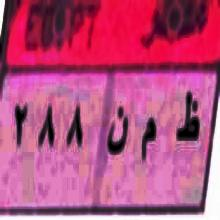2: (14, 97, 30, 163)
8: (64, 103, 86, 164), (36, 99, 56, 158)
Thaa: (175, 88, 200, 169)
meem: (140, 109, 157, 169)
noon: (104, 101, 129, 168)
